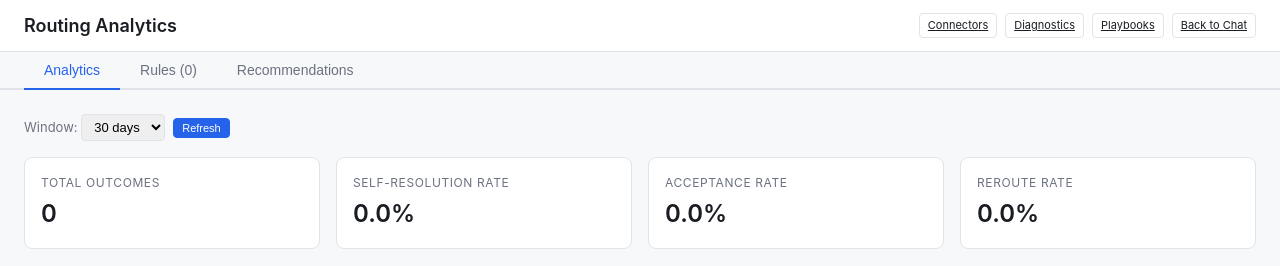
Test case: RoutingAnalyticsPage › Generate Recommendations button has aria-label
Click the button with aria-label "Recommendations tab" at {"x": 295, "y": 71}, box [217,52,374,90]
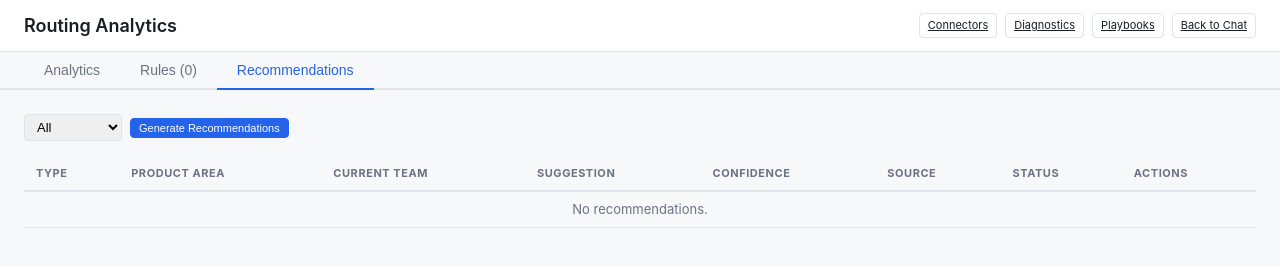
Now the button with aria-label "Generate routing recommendations" is shown, box [130,118,289,138]
